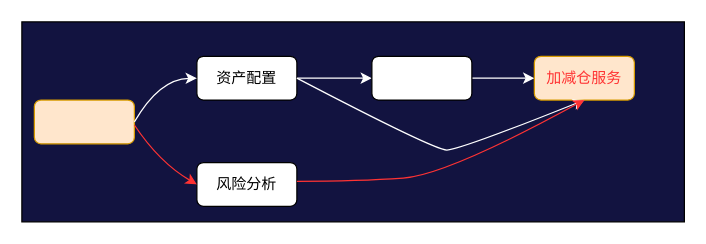
The diagram is 706 pixels wide and 244 high, and some of its shapes have lost their labels. Each missing label, with the centre of its shape:
"基金经理评测" belongs at point 421,77.
"行情解读" belongs at point 83,121.
